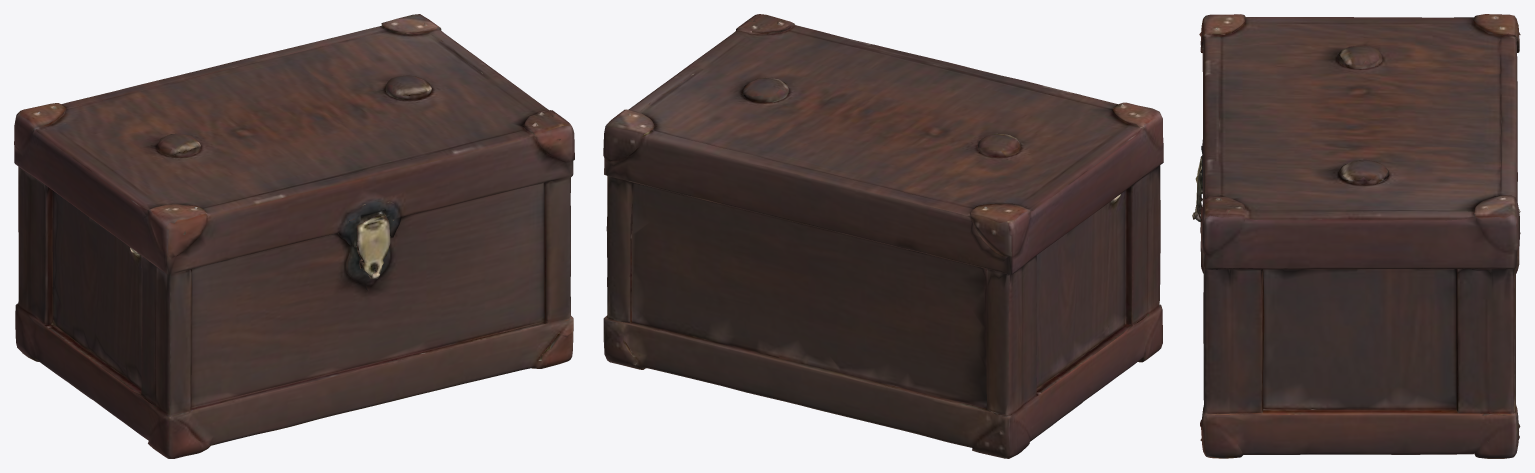
File: chest.glb
3 views of the same model, side by side, from view 1: azimuth 30°, elevation 25°; view 2: azimuth 150°, elevation 25°; view 3: azimuth 270°, elevation 25° (orthographic). The views are drawn at different scales.
Parts seen in each view (by area): view 1: model; view 2: model; view 3: model.
Part boxes in pixels (<box>): model: <box>14,14,574,458</box>; model: <box>603,14,1163,458</box>; model: <box>1192,14,1520,458</box>.
Size of the model in its own units: 2 by 1.15 by 1.36.
Materials: 1 (1 with a texture image).
